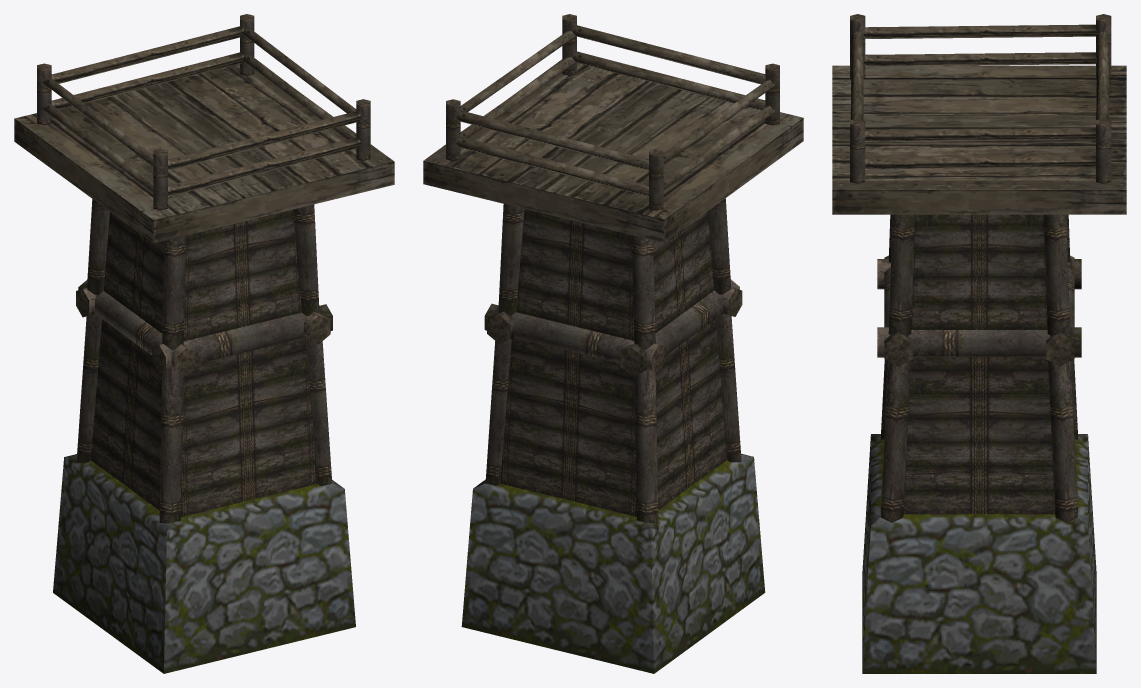
Rendered from kqzd_liaowangtai_2.FBX.
3 renders of one model, left to right at view 1: azimuth 30°, elevation 25°; view 2: azimuth 150°, elevation 25°; view 3: azimuth 270°, elevation 25°, orthographic. The views are drawn at different scales.
Parts seen in each view (by area): view 1: kqzd_liaowangtai_2 (×2); view 2: kqzd_liaowangtai_2 (×2); view 3: kqzd_liaowangtai_2 (×2).
Part boxes in pixels (bbox=[...]): kqzd_liaowangtai_2 (×2): bbox=[14, 14, 394, 673]; kqzd_liaowangtai_2 (×2): bbox=[423, 14, 803, 673]; kqzd_liaowangtai_2 (×2): bbox=[832, 14, 1126, 673].
Bounding box in the file's own units: 808 × 1680 × 808.
